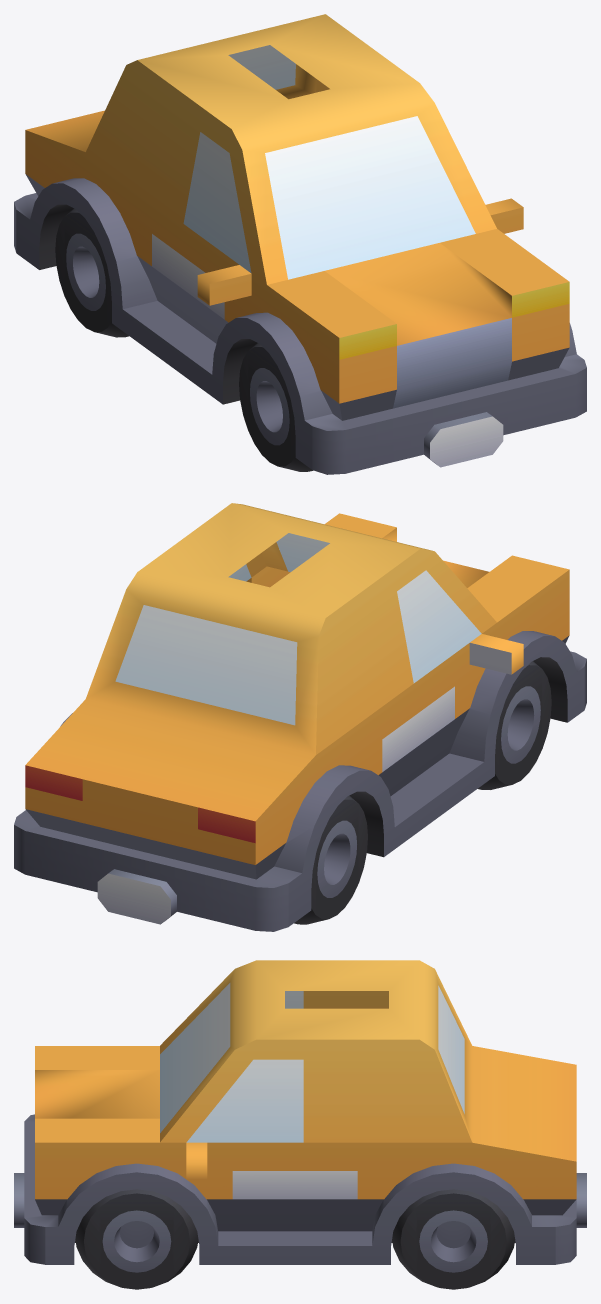
Rendered from brim.glb.
3 renders of one model, top to bottom at view 1: azimuth 30°, elevation 25°; view 2: azimuth 150°, elevation 25°; view 3: azimuth 270°, elevation 25°, orthographic. The views are drawn at different scales.
Parts seen in each view (by area): view 1: body, wheel_fr, wheel_rr; view 2: body, wheel_rr, wheel_fr; view 3: body, wheel_fl, wheel_rl.
Boxes of the visible parts, x1,y1,x2,y2 form: body: [14, 14, 586, 474]; wheel_fr: [239, 343, 313, 471]; wheel_rr: [55, 208, 128, 337]; body: [14, 503, 586, 931]; wheel_rr: [294, 795, 367, 924]; wheel_fr: [478, 661, 551, 789]; body: [14, 960, 586, 1264]; wheel_fl: [75, 1189, 198, 1289]; wheel_rl: [392, 1189, 515, 1289].
Bounding box in the file's own units: 2.67 × 2.32 × 4.9.
Materials: 1 (1 with a texture image).
